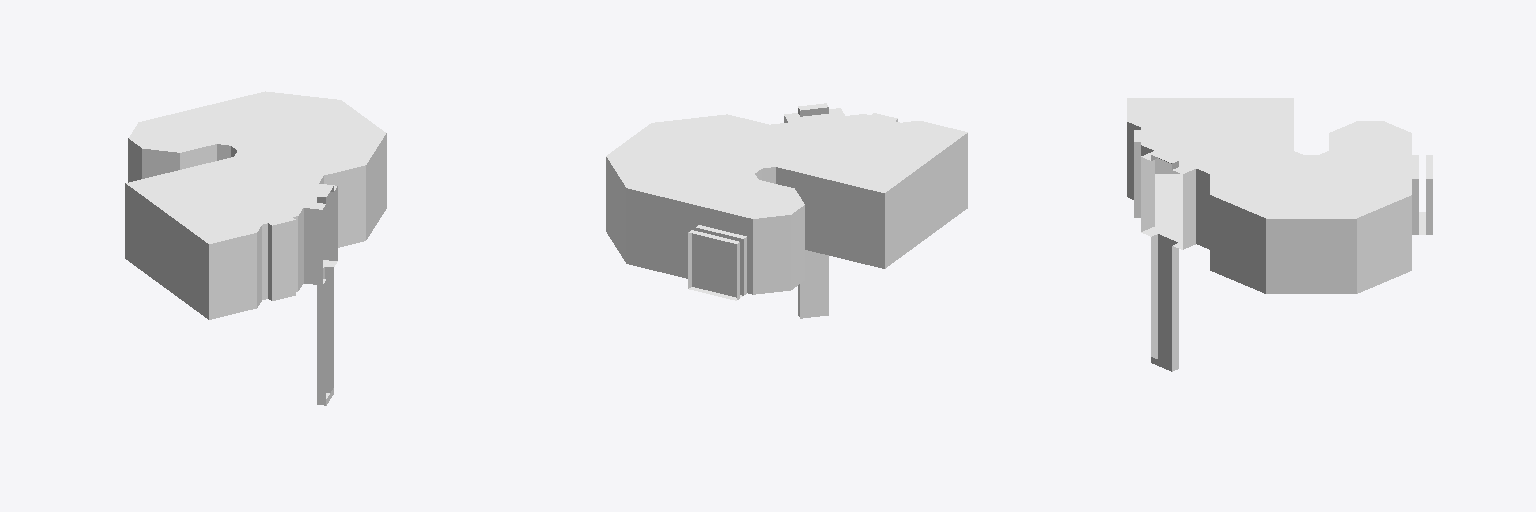
The model's file is map01_sect03.obj.
3 views of the same model, side by side, from view 1: azimuth 30°, elevation 25°; view 2: azimuth 150°, elevation 25°; view 3: azimuth 270°, elevation 25° (orthographic).
Visible parts, largest first — view 1: MAP01; view 2: MAP01; view 3: MAP01.
Boxes of the visible parts, x1=… form: MAP01: x1=125, y1=91, x2=386, y2=405; MAP01: x1=606, y1=103, x2=967, y2=318; MAP01: x1=1127, y1=98, x2=1432, y2=371.
Bounding box in the file's own units: 656 × 528 × 704.